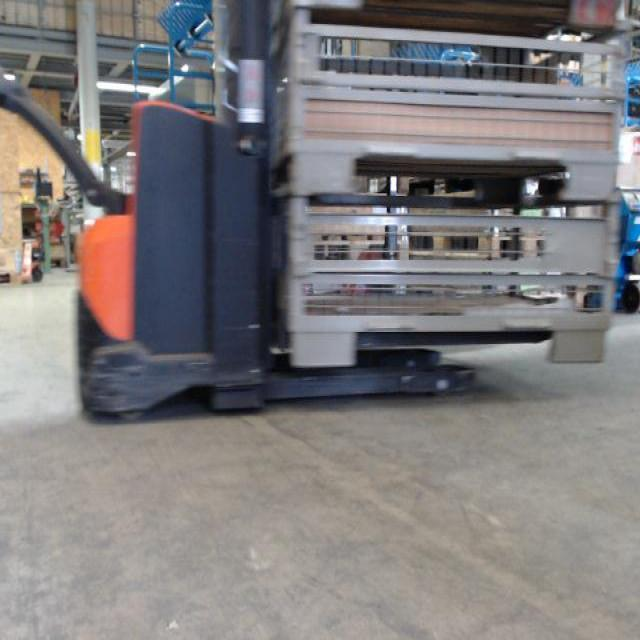pallet_truck: (2, 5, 495, 415), (20, 168, 49, 293)
stillage: (275, 19, 629, 203), (283, 192, 612, 361)
